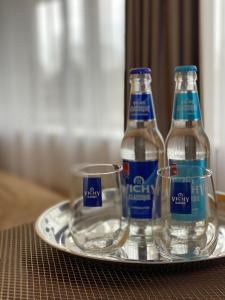bottle: (154, 57, 214, 236), (114, 61, 169, 245)
